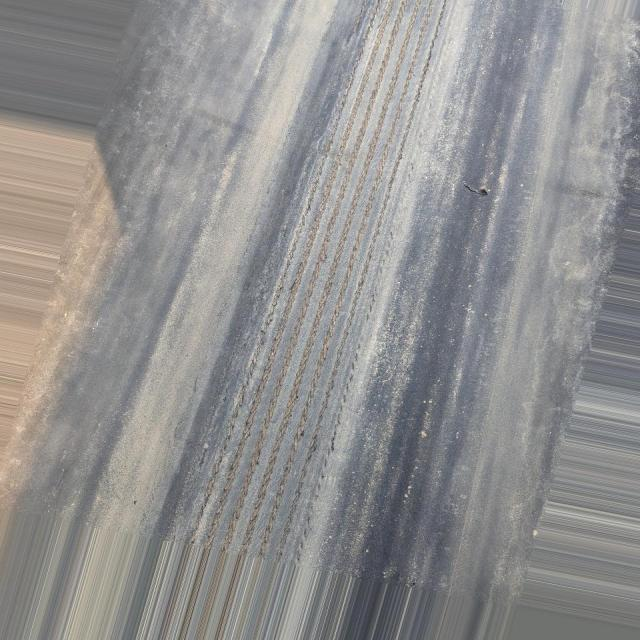impact damage: (130, 1, 466, 637)
